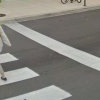crosswalk: (0, 52, 72, 99)
